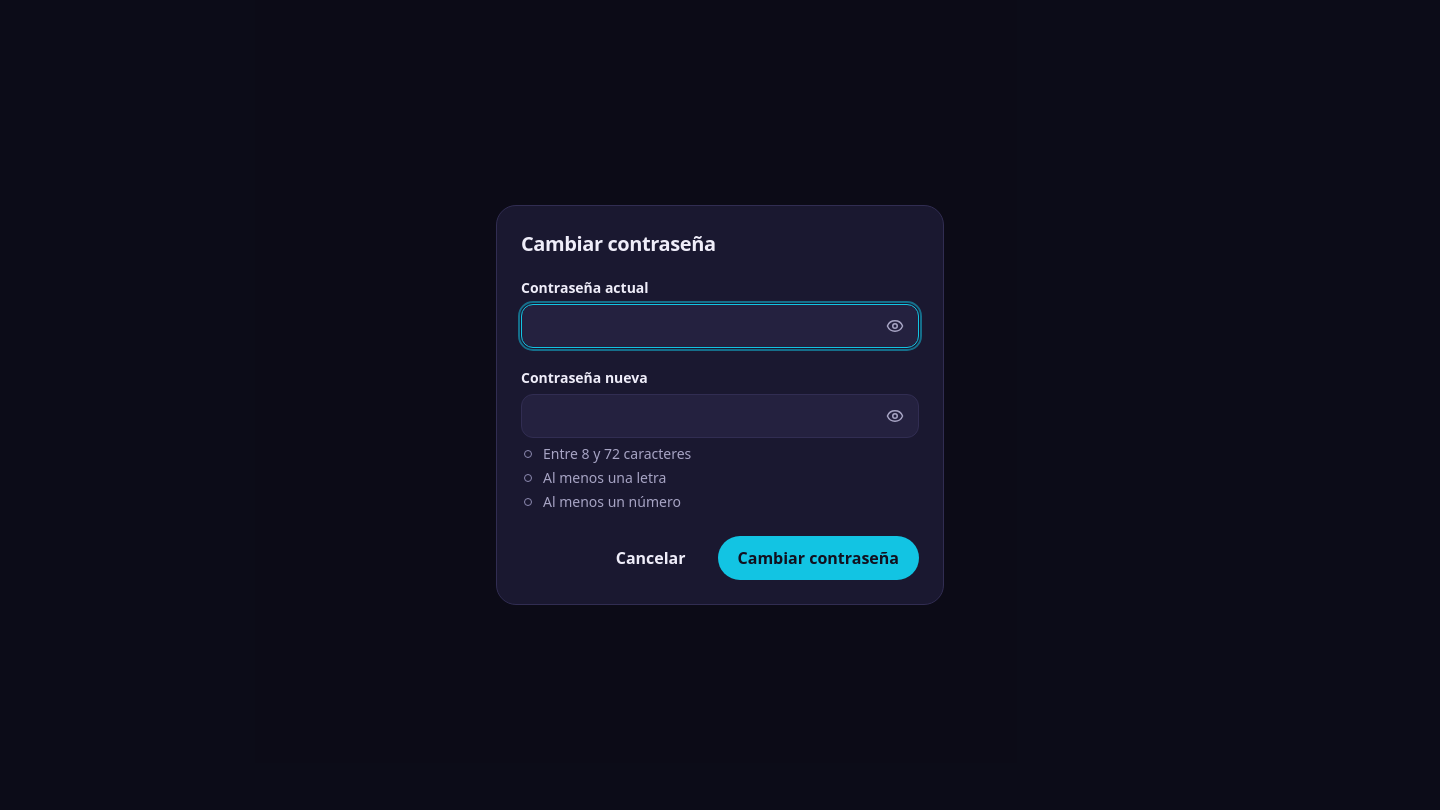
Test: ChangePasswordModal › TOO_MANY_REQUESTS muestra el mensaje de espera
In the password field labelled "Contraseña actual": (720, 326) [521,304,919,348], type "vieja123"
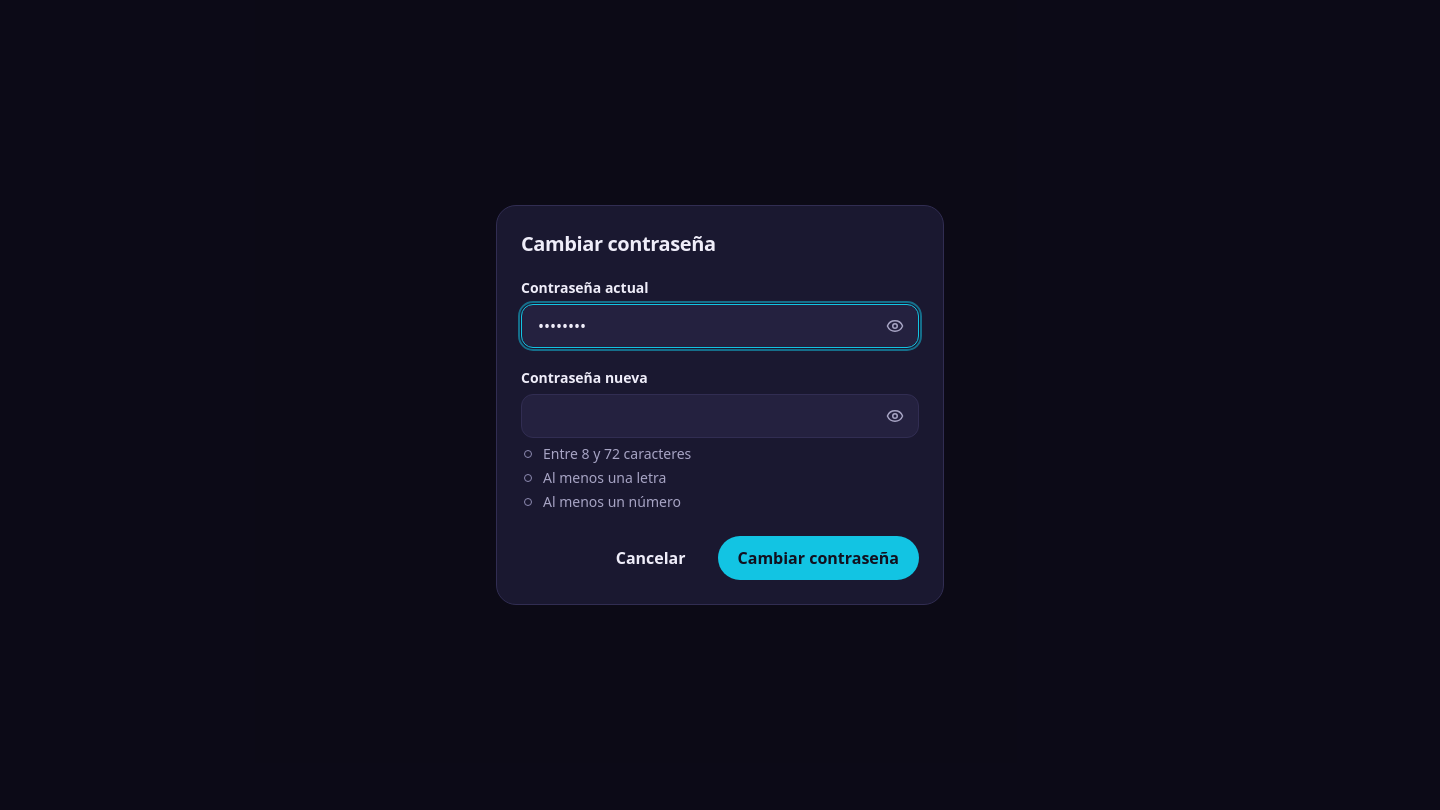
In the password field labelled "Contraseña nueva": (720, 416) [521,394,919,438], type "nueva1234"
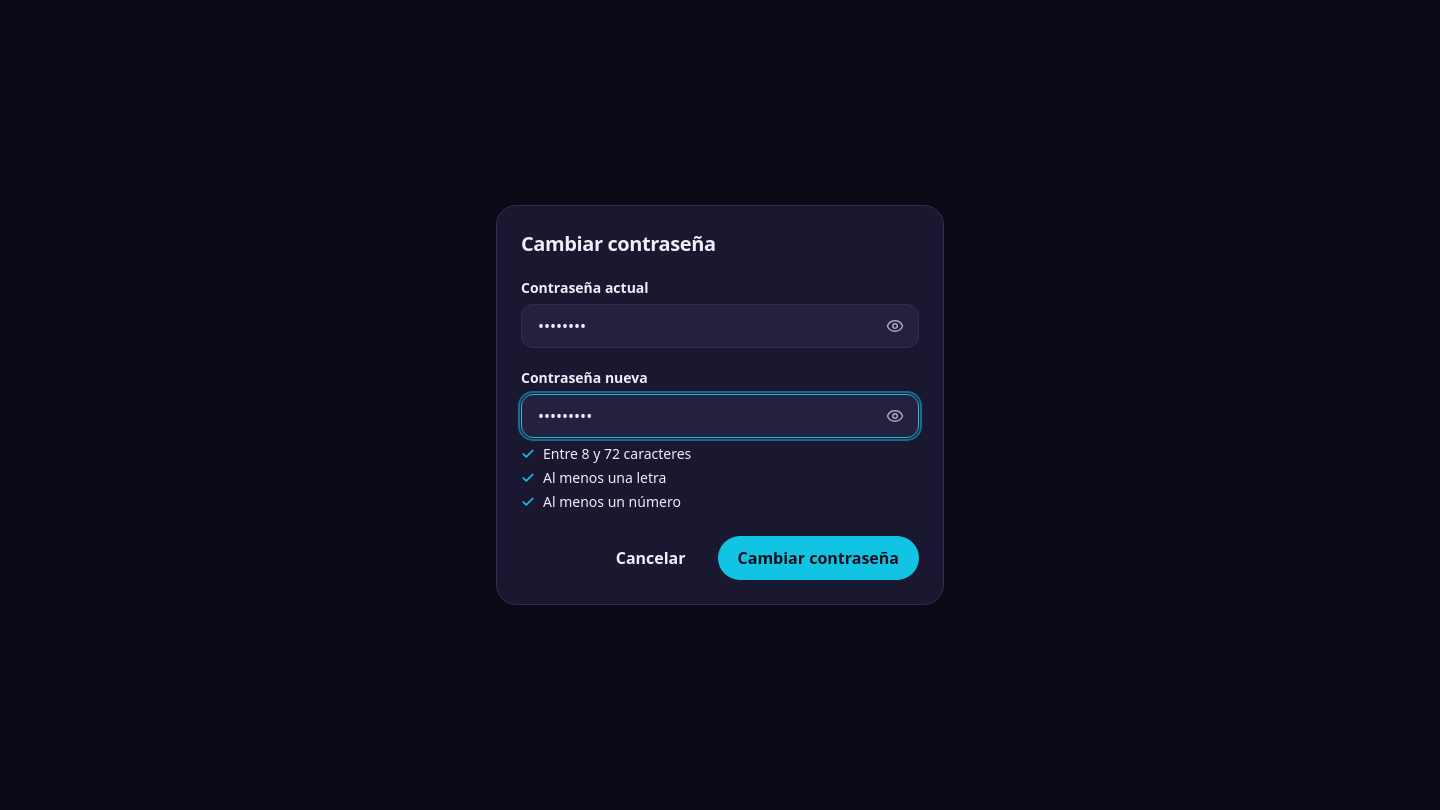
Click the button "Cambiar contraseña": (818, 558) [718,536,919,580]
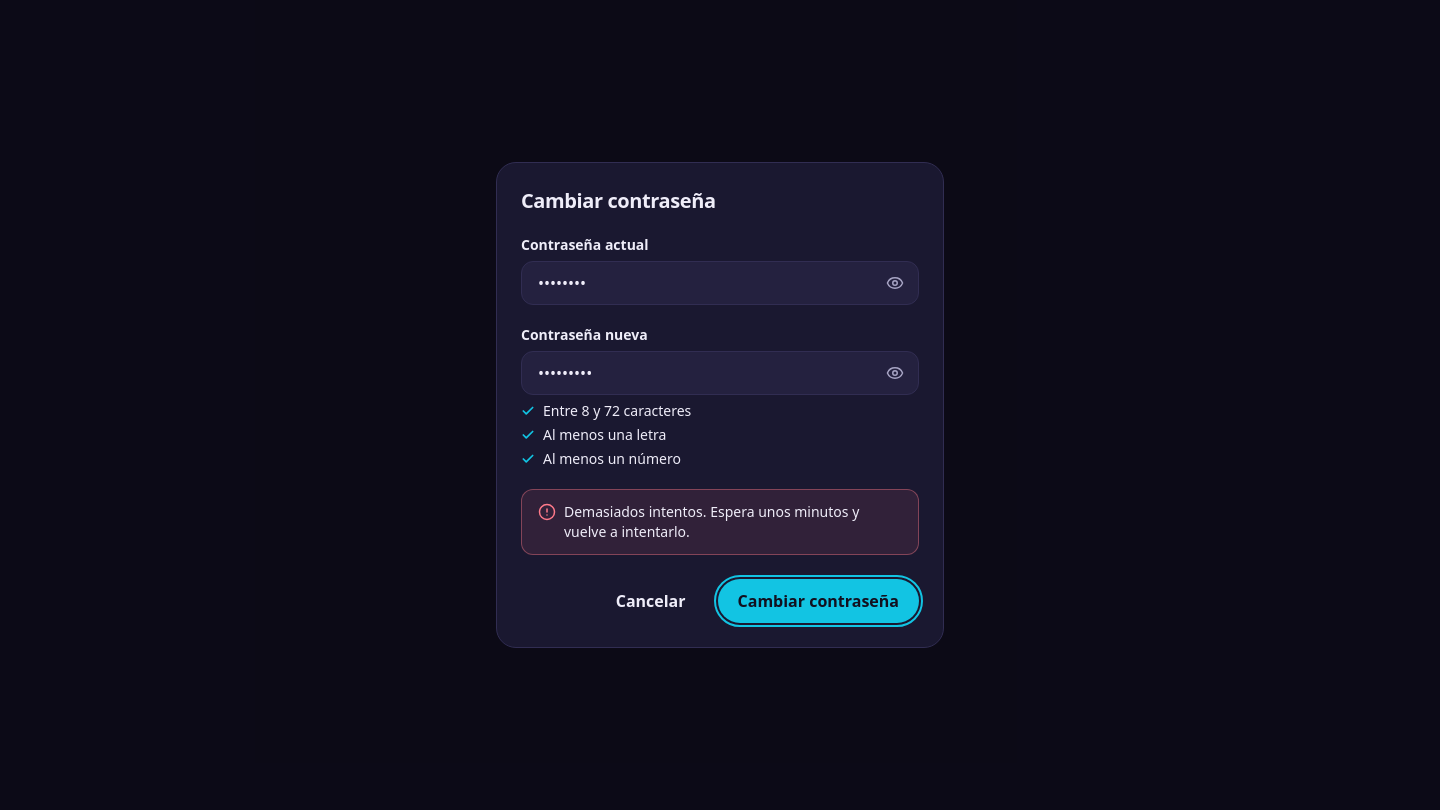
expect the message reads "Demasiados intentos. Espera unos minutos y vuelve a intentarlo.": met, box [564,502,859,541]
